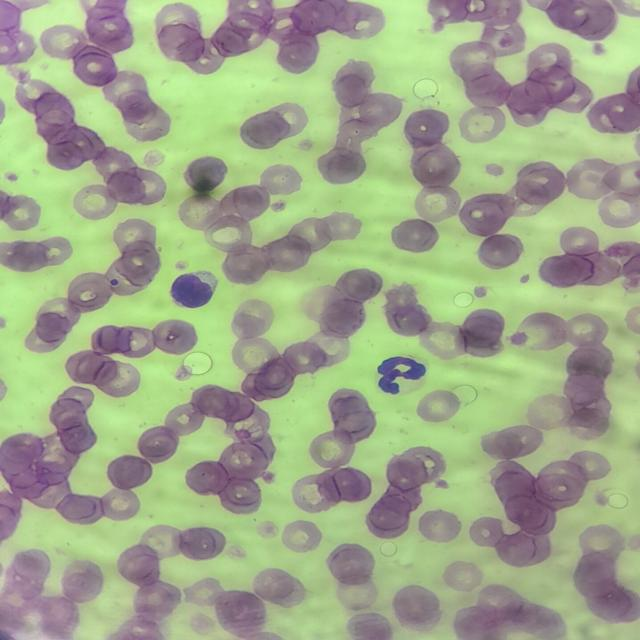Neutrofilo: (375, 352, 431, 398)
